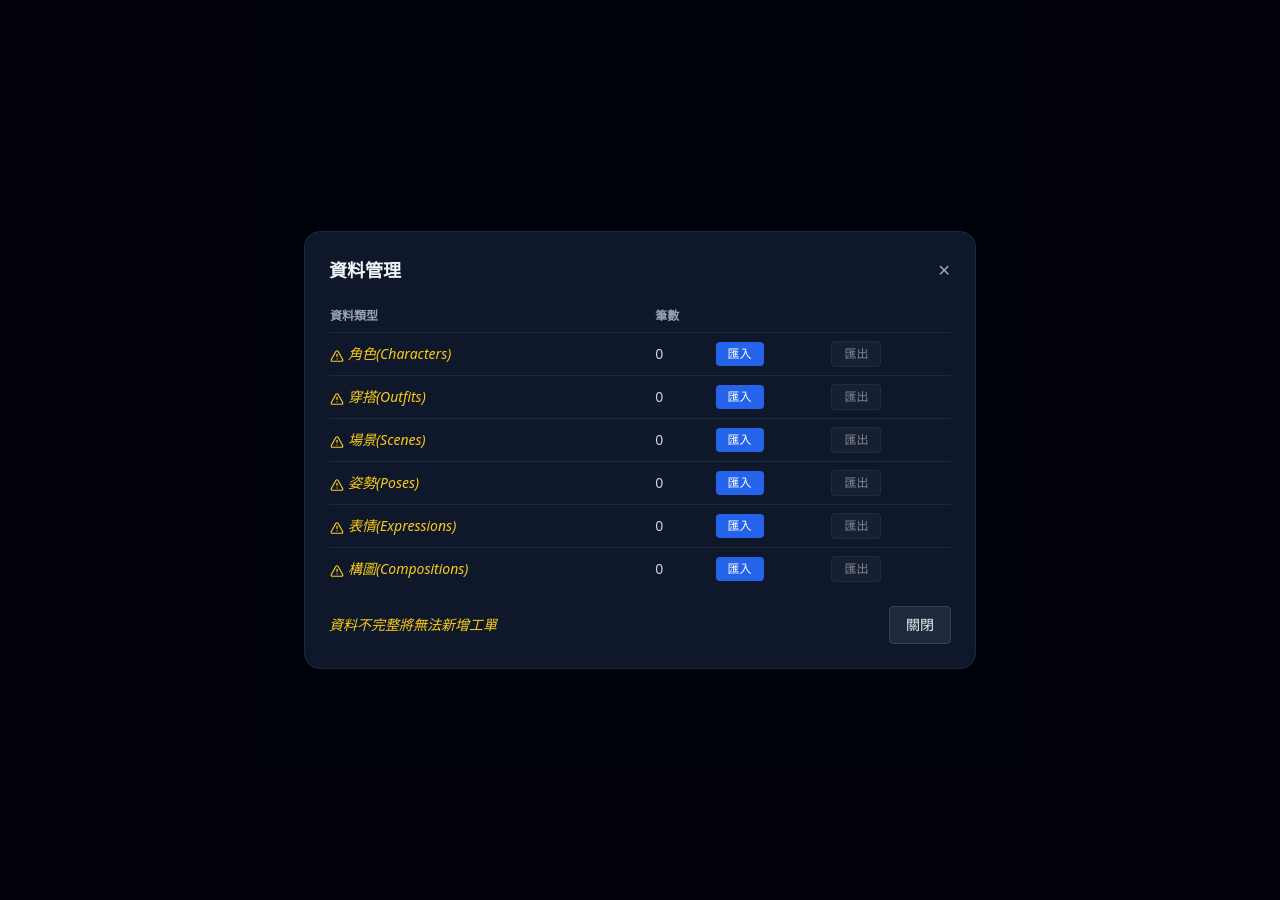
Test: DataManagerModal › clicking Import opens ImportEntityModal for that entity
The width and height of the screenshot is (1280, 900).
Click the button "匯入" in the row of "穿搭" at [740, 397], box x1=716 y1=385 x2=764 y2=409
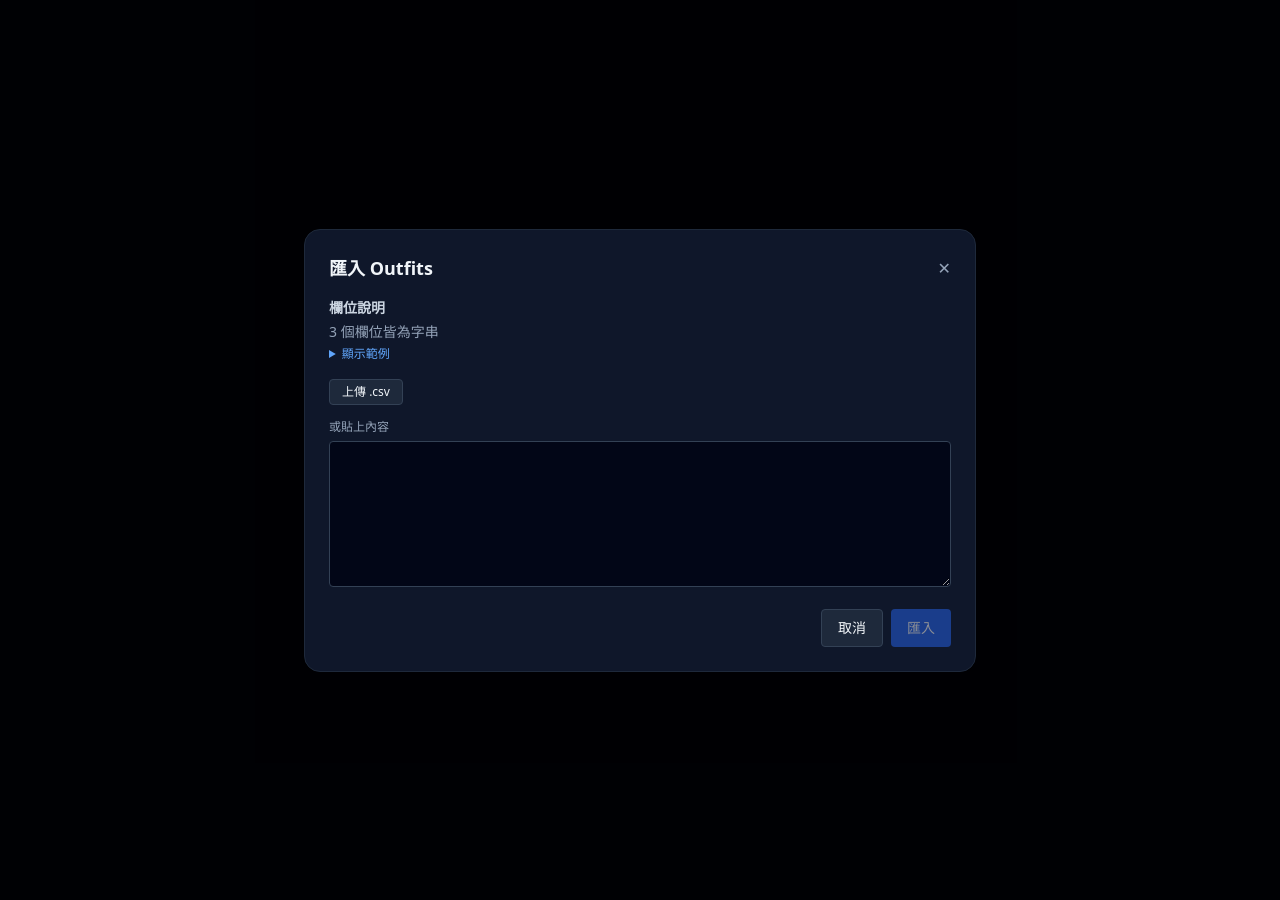
Result: the dialog "匯入 Outfits ✕ 欄位說明 3 個欄位皆為字串 顯示範例 上傳 .csv 或貼上內容 取消 匯入" is shown at x1=304 y1=228 x2=976 y2=672
